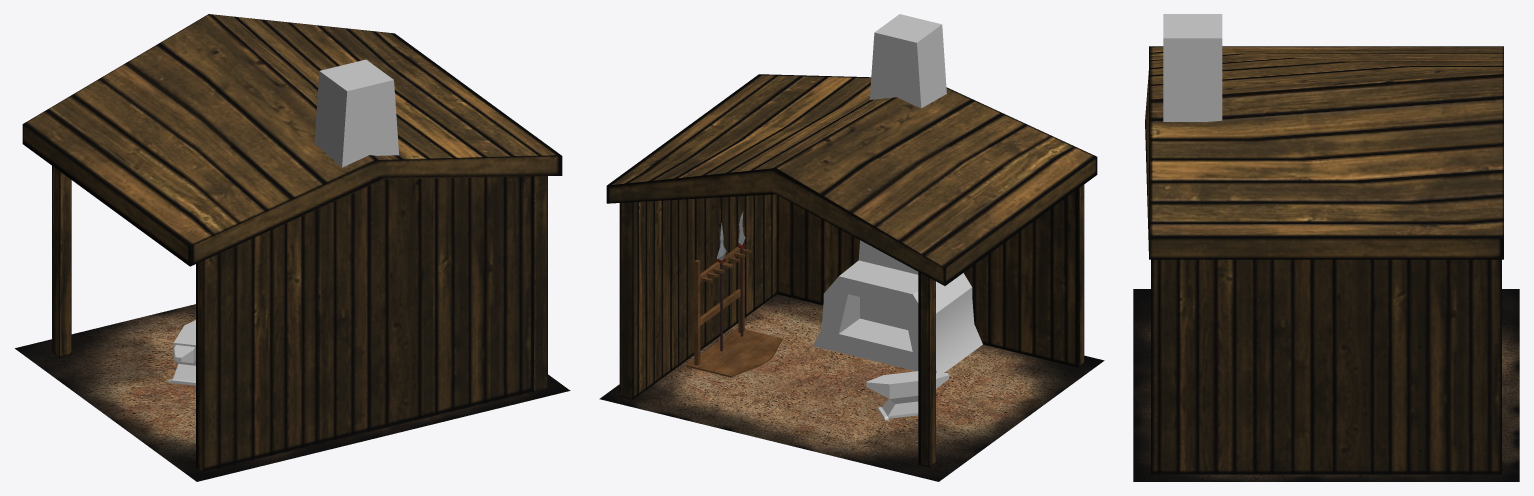
The model's file is blacksmith.FBX.
The picture shows the model from 3 angles, left to right: view 1: azimuth 30°, elevation 25°; view 2: azimuth 150°, elevation 25°; view 3: azimuth 270°, elevation 25°; orthographic projection. The views are drawn at different scales.
Visible parts, largest first — view 1: Box001, Box003, Plane001, Box004, Box007; view 2: Box003, Box001, Plane001, Box004, Box002, Box007; view 3: Box001, Box003, Plane001, Box004.
Part boxes in pixels (<box>): Box001: <box>52,166,547,472</box>; Box003: <box>22,14,562,266</box>; Plane001: <box>15,304,570,481</box>; Box004: <box>314,59,398,167</box>; Box007: <box>168,320,195,385</box>; Box003: <box>606,74,1097,285</box>; Box001: <box>619,184,1084,467</box>; Plane001: <box>599,294,1104,481</box>; Box004: <box>813,14,982,372</box>; Box002: <box>686,227,782,377</box>; Box007: <box>866,371,949,420</box>; Box001: <box>1151,259,1501,474</box>; Box003: <box>1145,46,1503,259</box>; Plane001: <box>1133,289,1519,481</box>; Box004: <box>1163,14,1222,121</box>.
Bounding box in the file's own units: 130 × 114 × 110.
